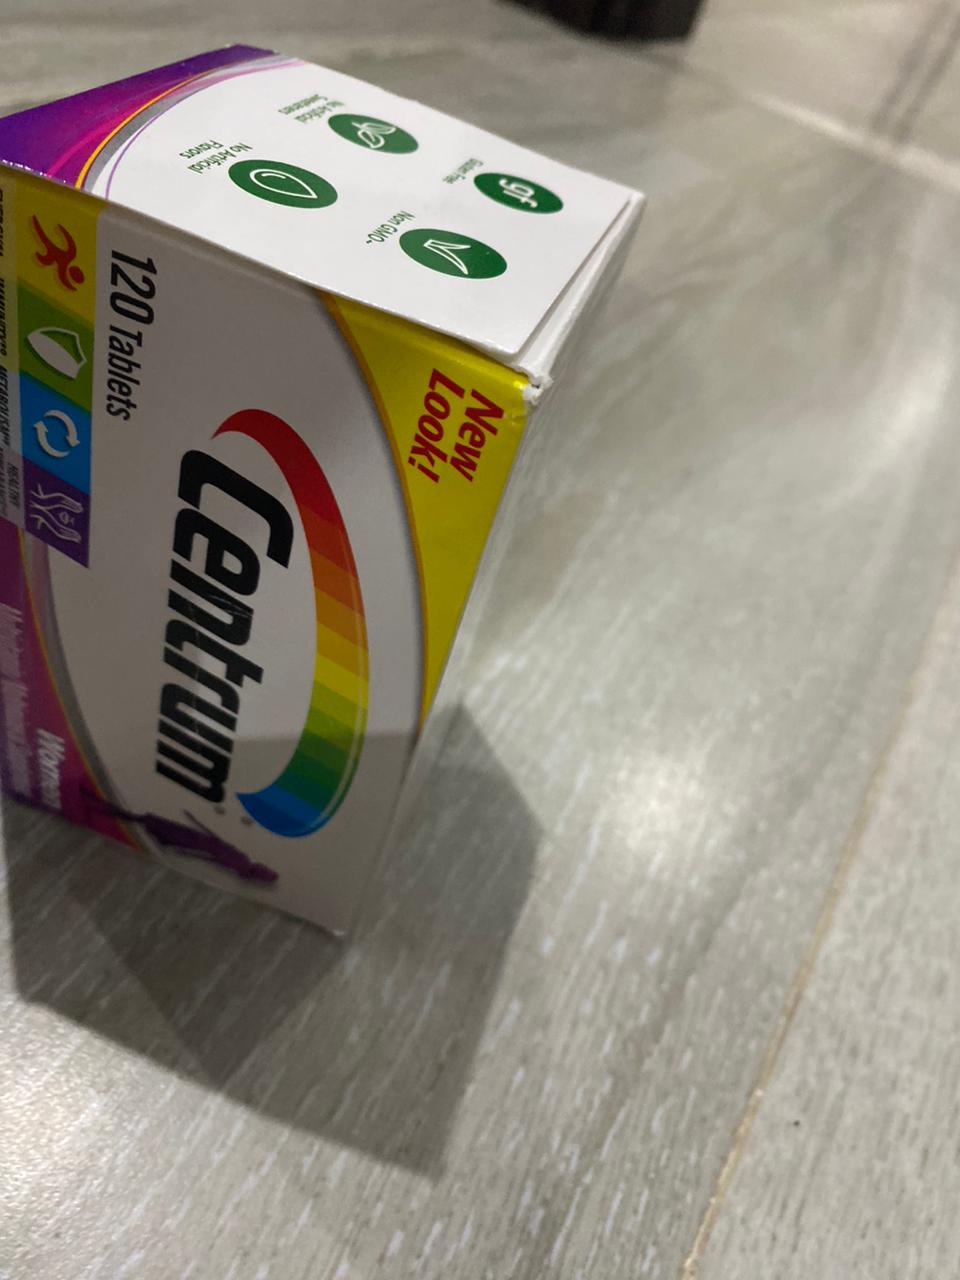Centrum: (9, 39, 661, 955)
